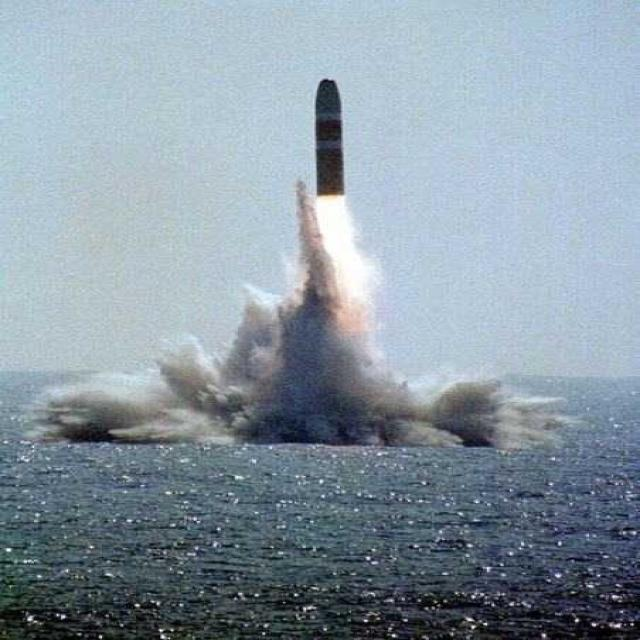missile: (306, 70, 360, 203)
